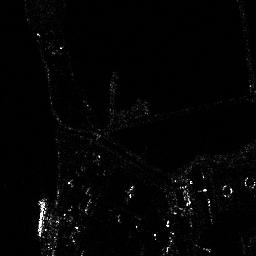ship: (36, 198, 47, 237)
